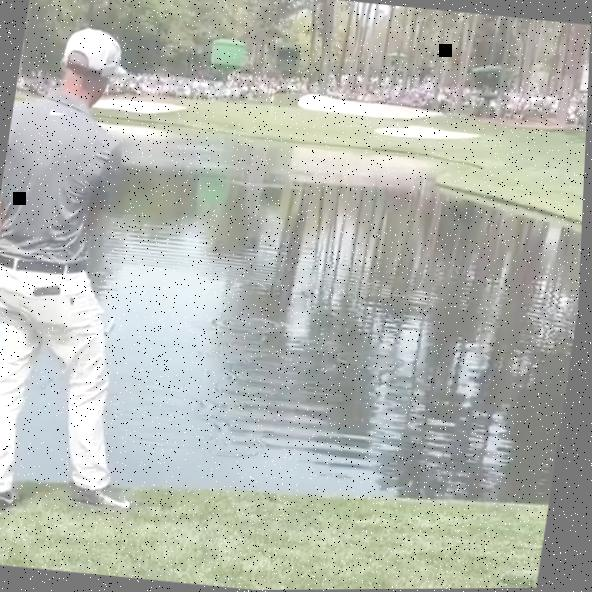ClubHead: (106, 316, 121, 335)
